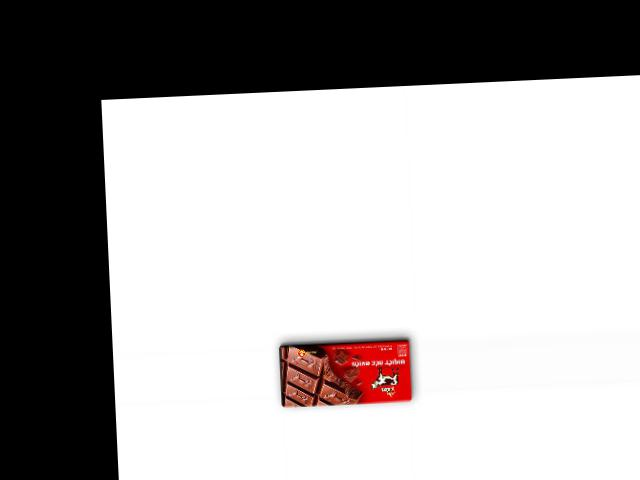chocolate: (276, 334, 415, 410)
